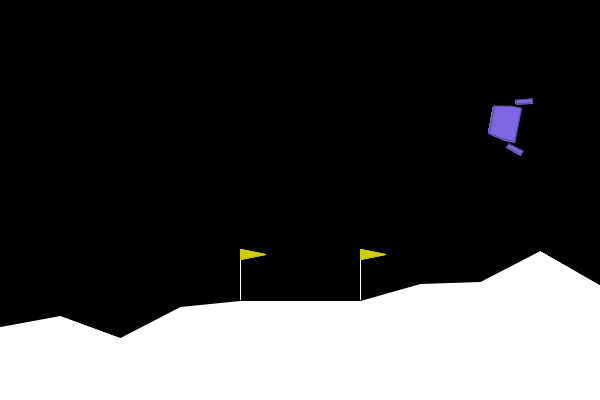lander: (483, 90, 534, 157)
